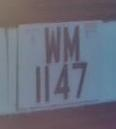1: (30, 62, 43, 109), (41, 62, 54, 107)
4: (51, 62, 74, 106)
7: (70, 60, 89, 103)
M: (61, 23, 83, 65)
W: (40, 25, 64, 66)
